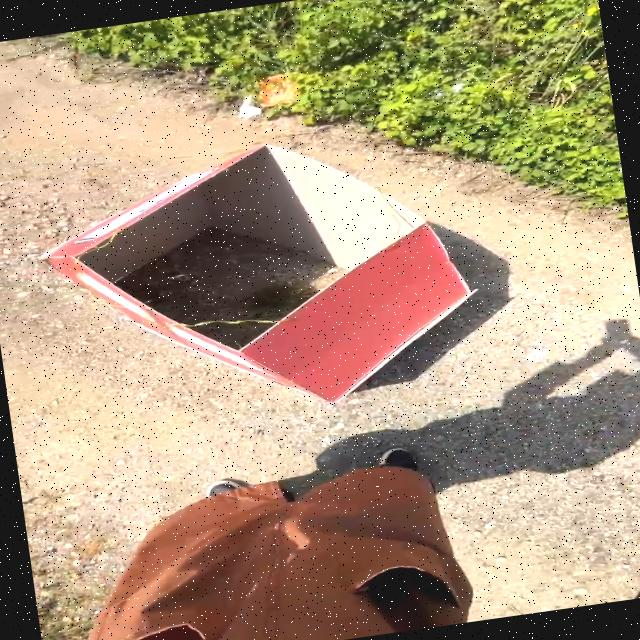red_car: (0, 96, 545, 461)
